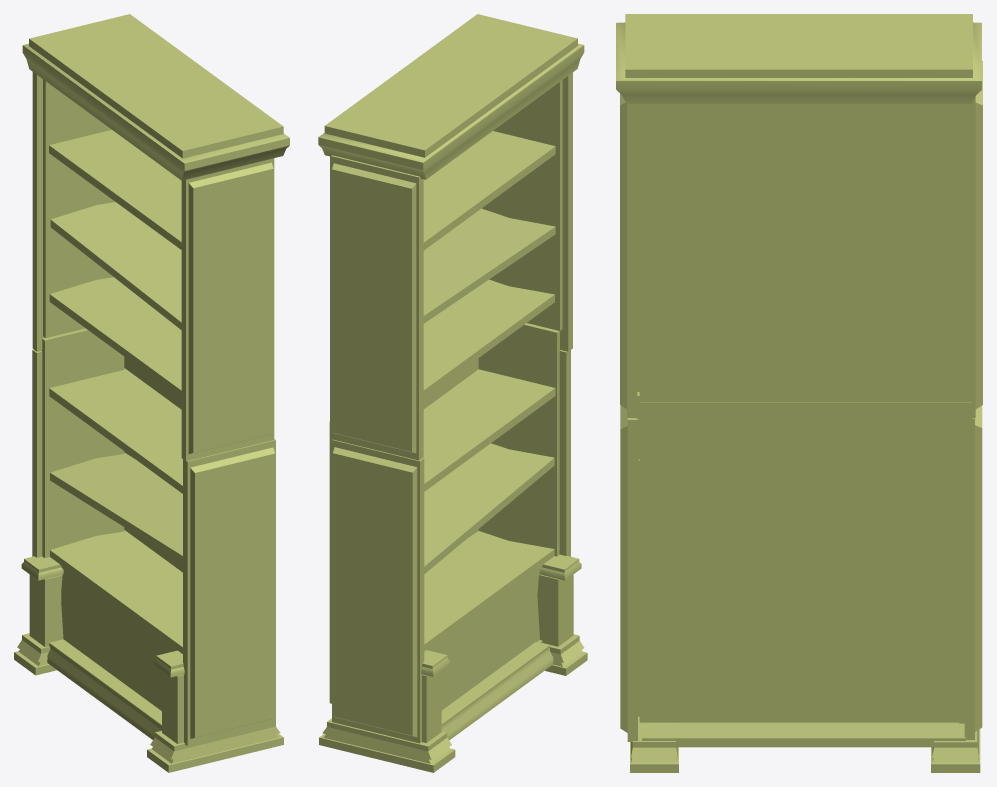
The model's file is Bookcase_02A_Lod0.fbx.
The picture shows the model from 3 angles, left to right: view 1: azimuth 30°, elevation 25°; view 2: azimuth 150°, elevation 25°; view 3: azimuth 270°, elevation 25°; orthographic projection. The views are drawn at different scales.
Parts seen in each view (by area): view 1: Bookcase_02A_Lod0; view 2: Bookcase_02A_Lod0; view 3: Bookcase_02A_Lod0.
Part boxes in pixels (<box>): Bookcase_02A_Lod0: <box>14,14,289,772</box>; Bookcase_02A_Lod0: <box>318,14,587,772</box>; Bookcase_02A_Lod0: <box>616,14,982,772</box>.
Bounding box in the file's own units: 67.05 × 345 × 164.
